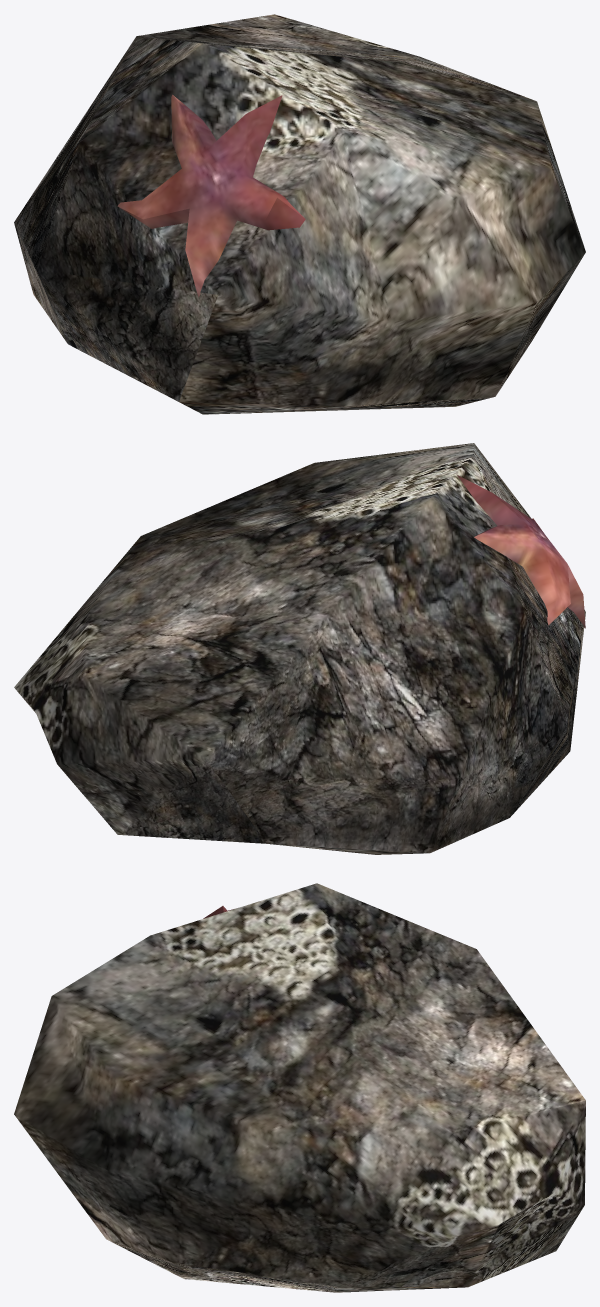
Rendered from pir_m_prp_dvj_rockStarfish.fbx.
3 renders of one model, top to bottom at view 1: azimuth 30°, elevation 25°; view 2: azimuth 150°, elevation 25°; view 3: azimuth 270°, elevation 25°, orthographic. The views are drawn at different scales.
Visible parts, largest first — view 1: lod_high, starfish; view 2: lod_high, starfish; view 3: lod_high.
Boxes of the visible parts, box(x1,y1,x2,y2) form: lod_high: box(14, 14, 585, 414); starfish: box(117, 94, 305, 297); lod_high: box(14, 443, 585, 854); starfish: box(457, 475, 585, 628); lod_high: box(14, 883, 585, 1292).
Size of the model in its own units: 446 by 307 by 485.
2 materials, 2 textured.
